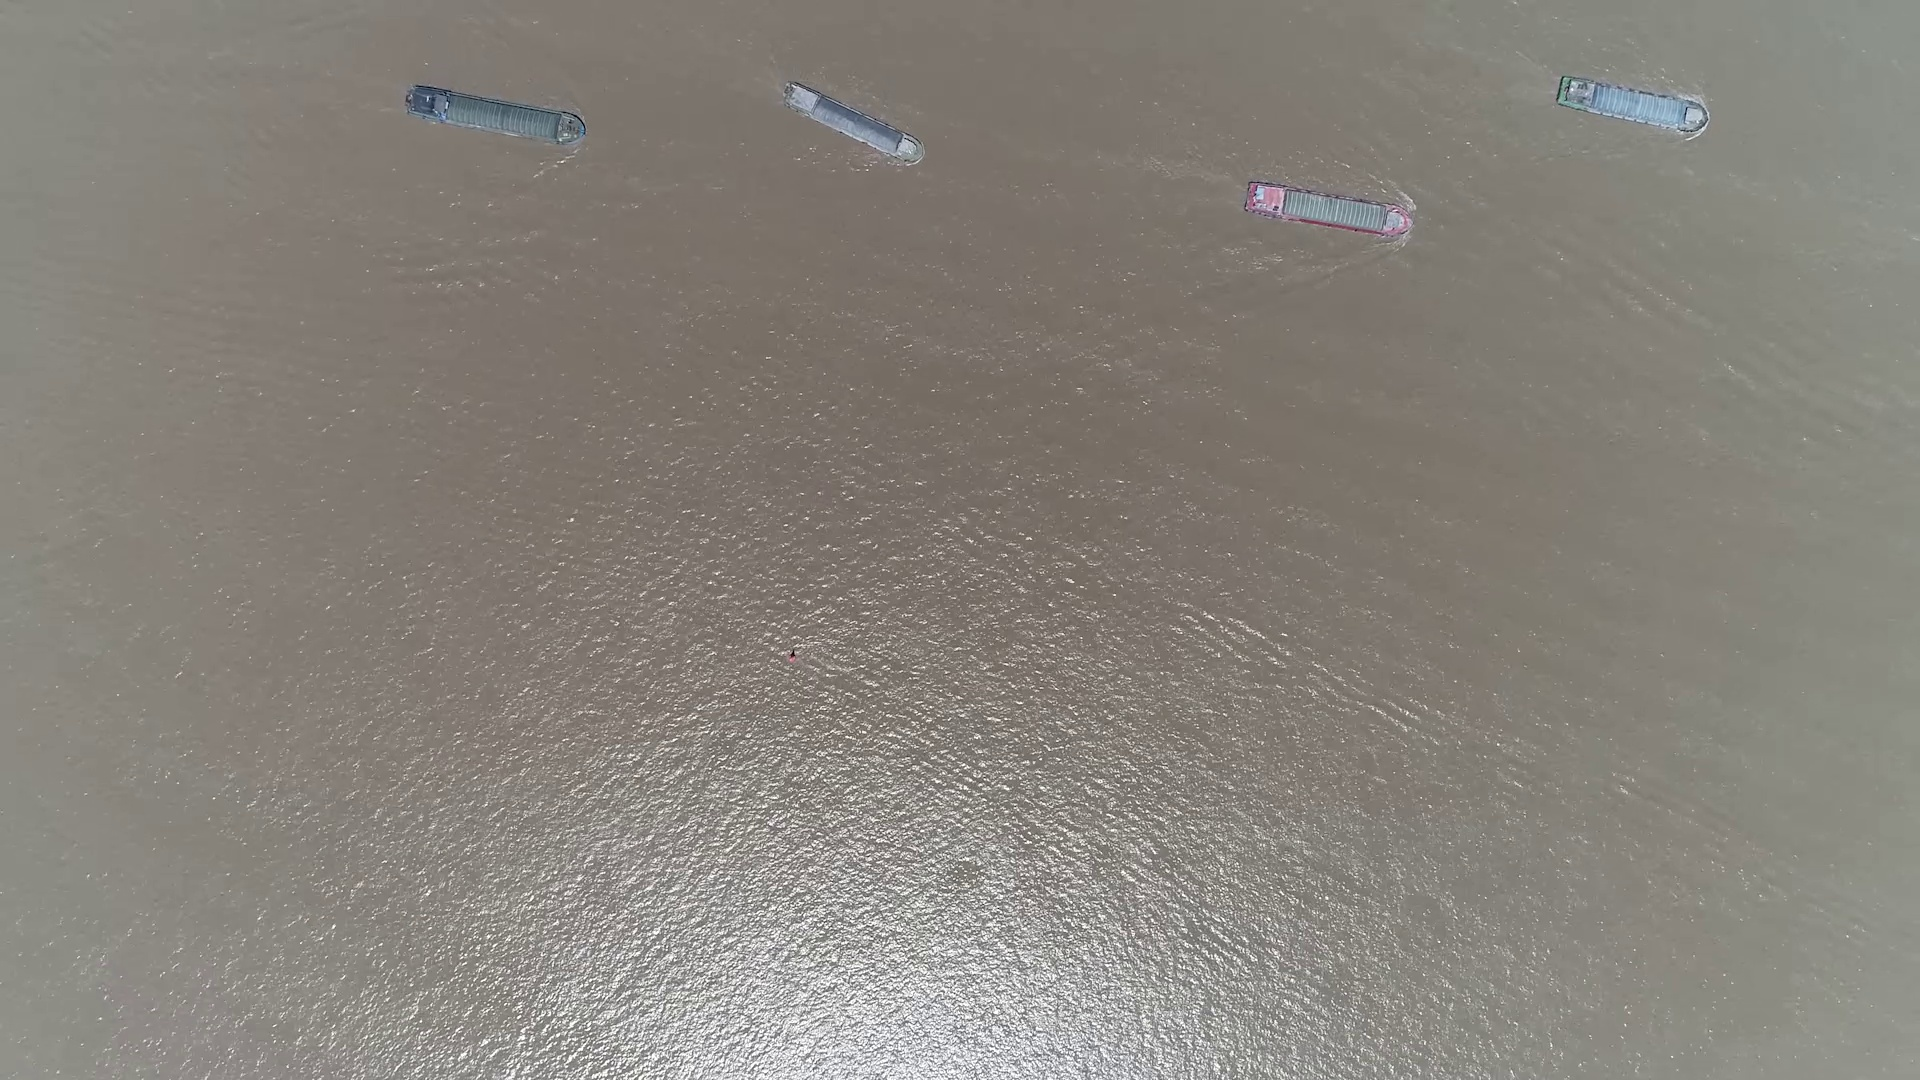ship: (404, 84, 585, 146), (781, 84, 922, 164), (1241, 181, 1414, 237), (1555, 79, 1708, 133)
